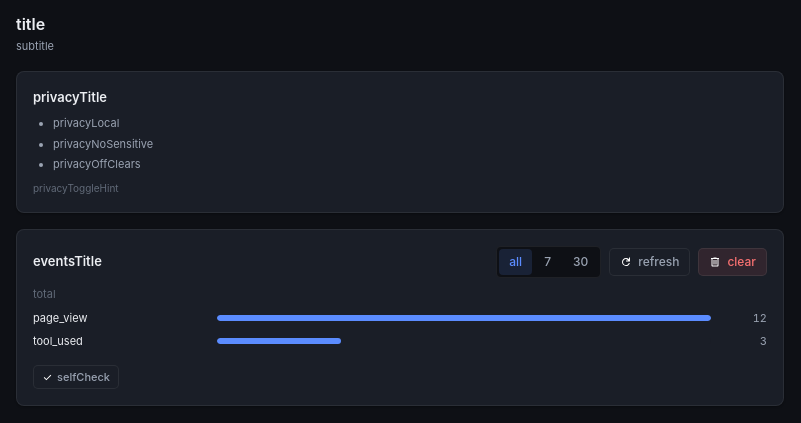
Test case: UsagePage 自检 › 没写进去时不能报「通过」——开关关闭时后端是静默 Ok 的
The width and height of the screenshot is (801, 423).
Expected: the text "total" is shown, [33,286,56,300]
Step 1. Click the button "selfCheck" → coordinates (76, 377), box [33,365,119,389]
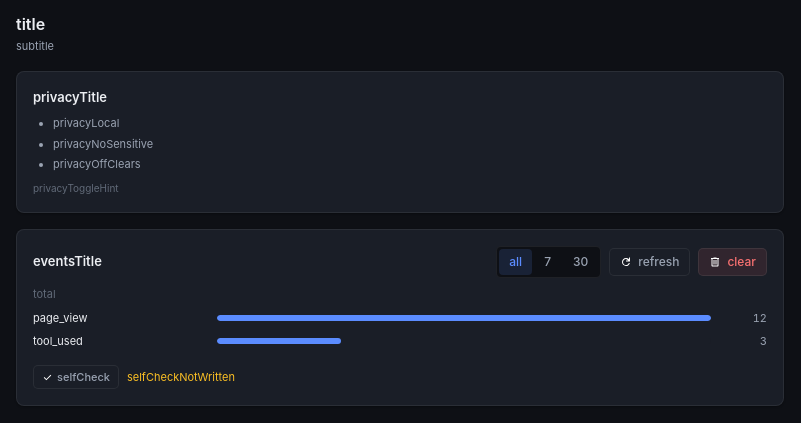
Result: the text "selfCheckNotWritten" is shown at [127,369,235,385]
